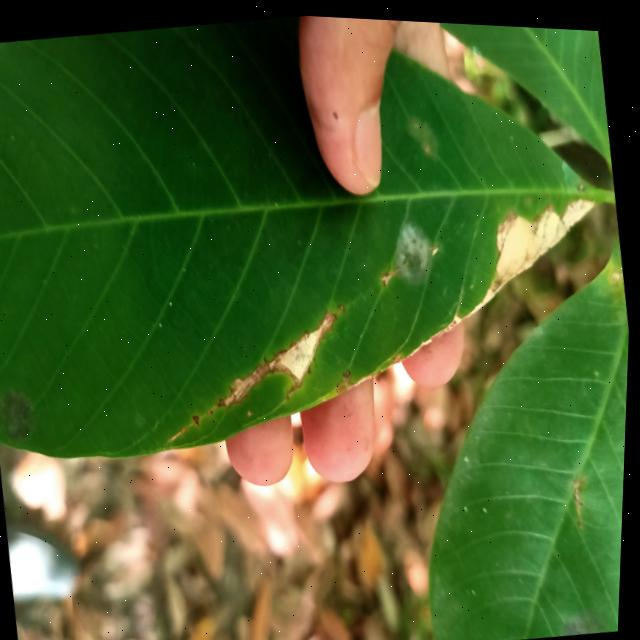Leaf-Blight: (480, 184, 606, 288), (272, 305, 345, 381)
